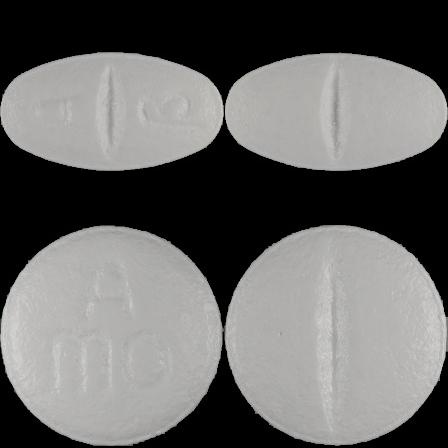0186-1088: (0, 0, 224, 224)
